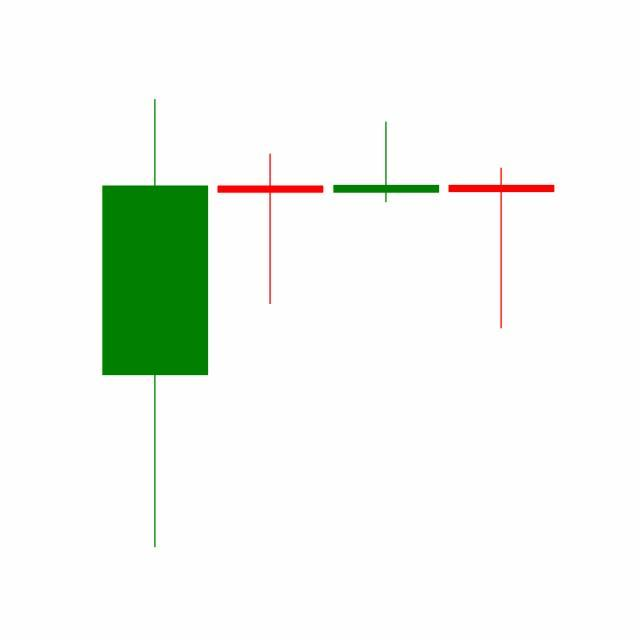Gravestone Doji: (329, 122, 445, 205)
